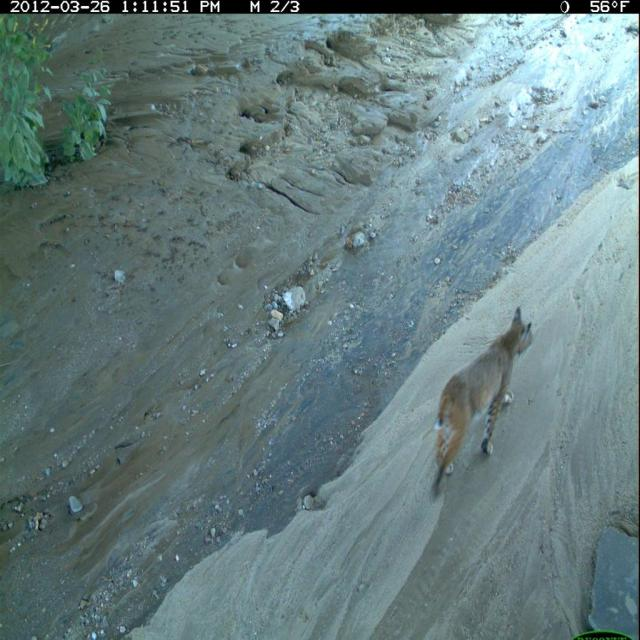bobcat: (428, 304, 537, 507)
